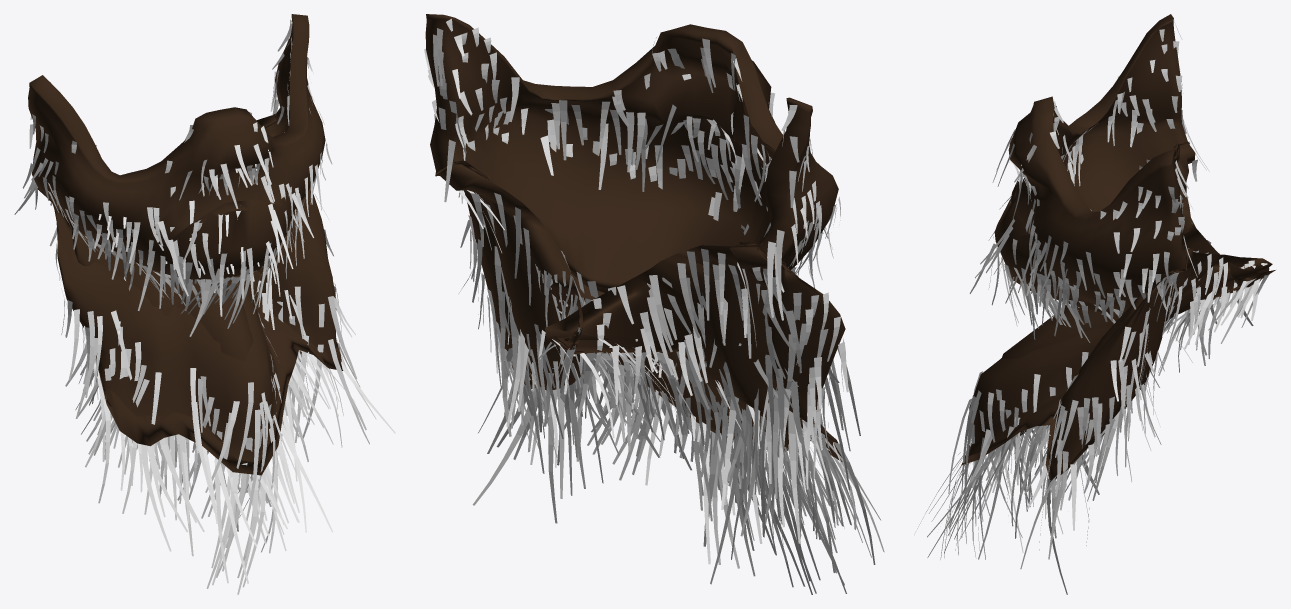
The model's file is beard-berserker-full.glb.
3 views of the same model, side by side, from view 1: azimuth 30°, elevation 25°; view 2: azimuth 150°, elevation 25°; view 3: azimuth 270°, elevation 25° (orthographic). The views are drawn at different scales.
Parts seen in each view (by area): view 1: beard-berserker-full_1, beard__strands; view 2: beard-berserker-full_1, beard__strands; view 3: beard-berserker-full_1, beard__strands.
Part boxes in pixels (x1,y1,x2,y2): beard-berserker-full_1: (28, 14, 343, 475); beard__strands: (14, 19, 395, 594); beard-berserker-full_1: (425, 14, 845, 461); beard__strands: (424, 18, 884, 594); beard-berserker-full_1: (961, 14, 1275, 481); beard__strands: (917, 20, 1269, 594).
Size of the model in its own units: 0.1898 by 0.2814 by 0.1865.
